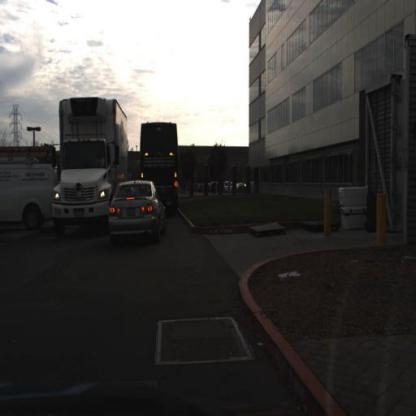car: (1, 162, 57, 237), (107, 178, 167, 242)
truck: (50, 95, 129, 236), (138, 118, 182, 213)
